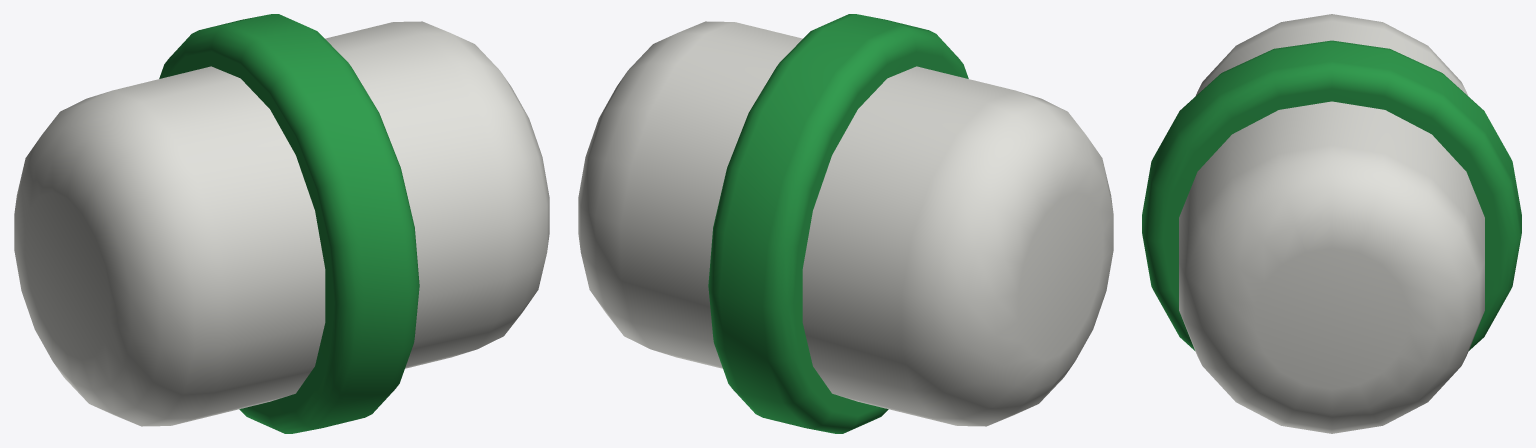
The model's file is BigBadVacuumCordLink.obj.
3 renders of one model, left to right at view 1: azimuth 30°, elevation 25°; view 2: azimuth 150°, elevation 25°; view 3: azimuth 270°, elevation 25°, orthographic. The views are drawn at different scales.
Visible parts, largest first — view 1: Cord, Band; view 2: Cord, Band; view 3: Cord, Band.
Part boxes in pixels (<box>): Cord: <box>14,21,549,426</box>; Band: <box>159,14,419,433</box>; Cord: <box>578,21,1113,426</box>; Band: <box>708,14,968,433</box>; Cord: <box>1179,14,1484,433</box>; Band: <box>1142,40,1521,350</box>.
Size of the model in its own units: 2.6 by 2.2 by 2.2.
